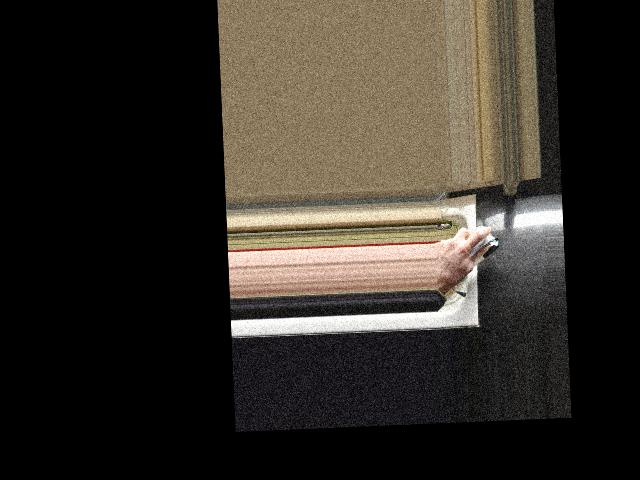cheese: (437, 228, 502, 277)
